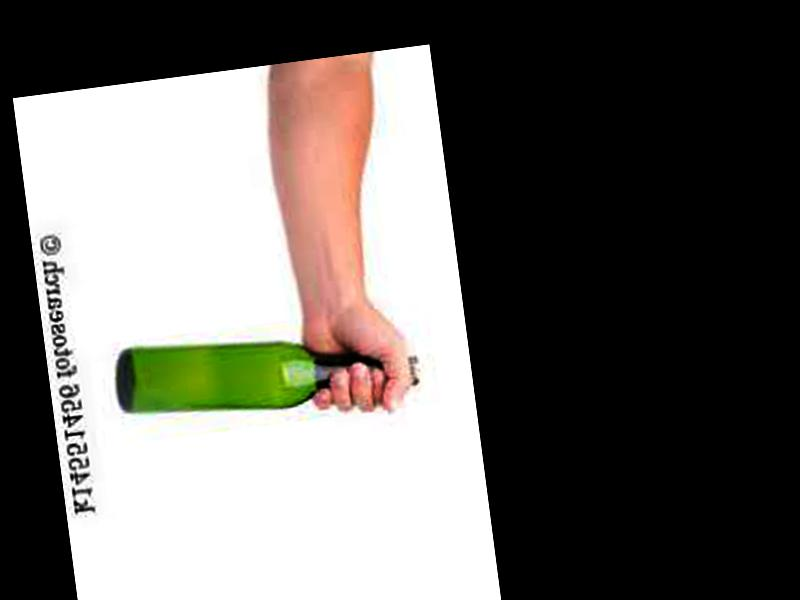Beer: (111, 310, 420, 428)
